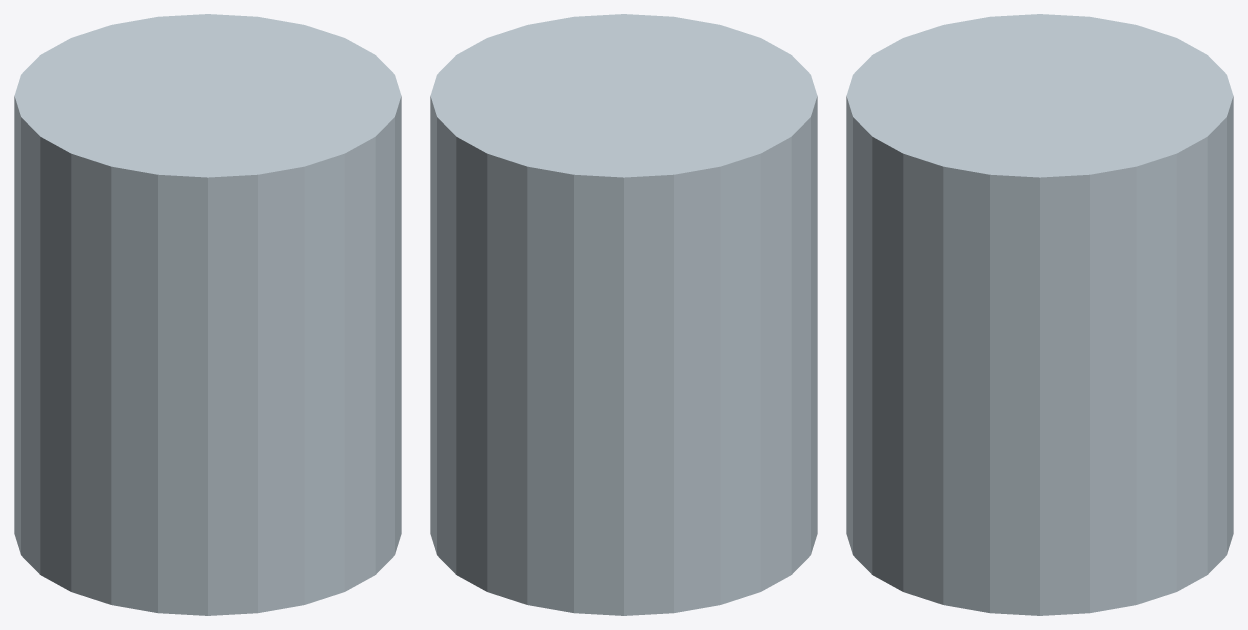
Rendered from own_cyl_80x100x80_9ab0c0.glb.
The picture shows the model from 3 angles, left to right: view 1: azimuth 30°, elevation 25°; view 2: azimuth 150°, elevation 25°; view 3: azimuth 270°, elevation 25°; orthographic projection.
Visible parts, largest first — view 1: geometry_0; view 2: geometry_0; view 3: geometry_0.
Boxes of the visible parts, x1,y1,x2,y2 form: geometry_0: (14,14,401,615); geometry_0: (430,14,817,615); geometry_0: (846,14,1233,615).
Size of the model in its own units: 0.8 by 1 by 0.8.
